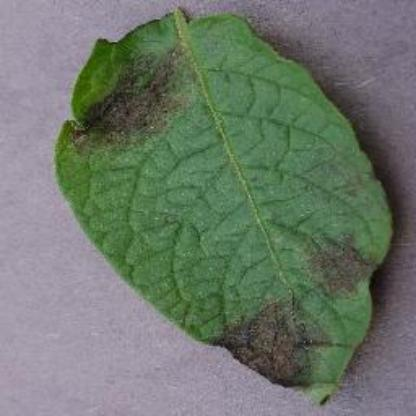Late-Blight: (45, 6, 401, 408)
